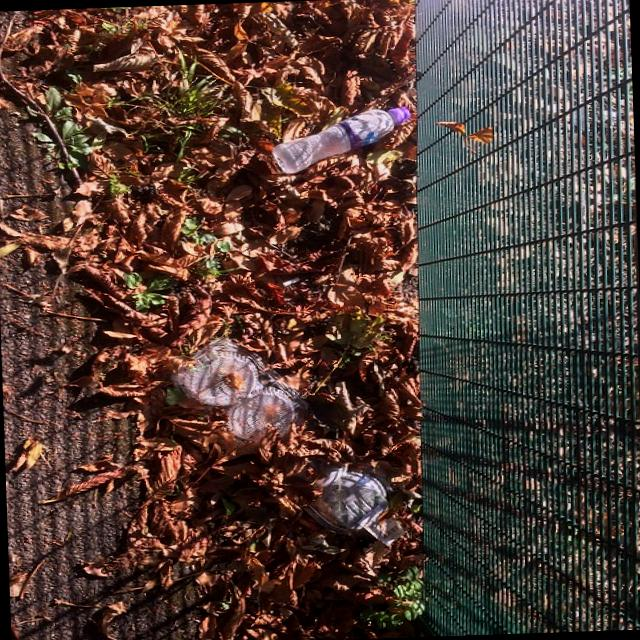Recycle: (270, 104, 414, 174)
Trash: (176, 339, 300, 452), (296, 462, 406, 550)
